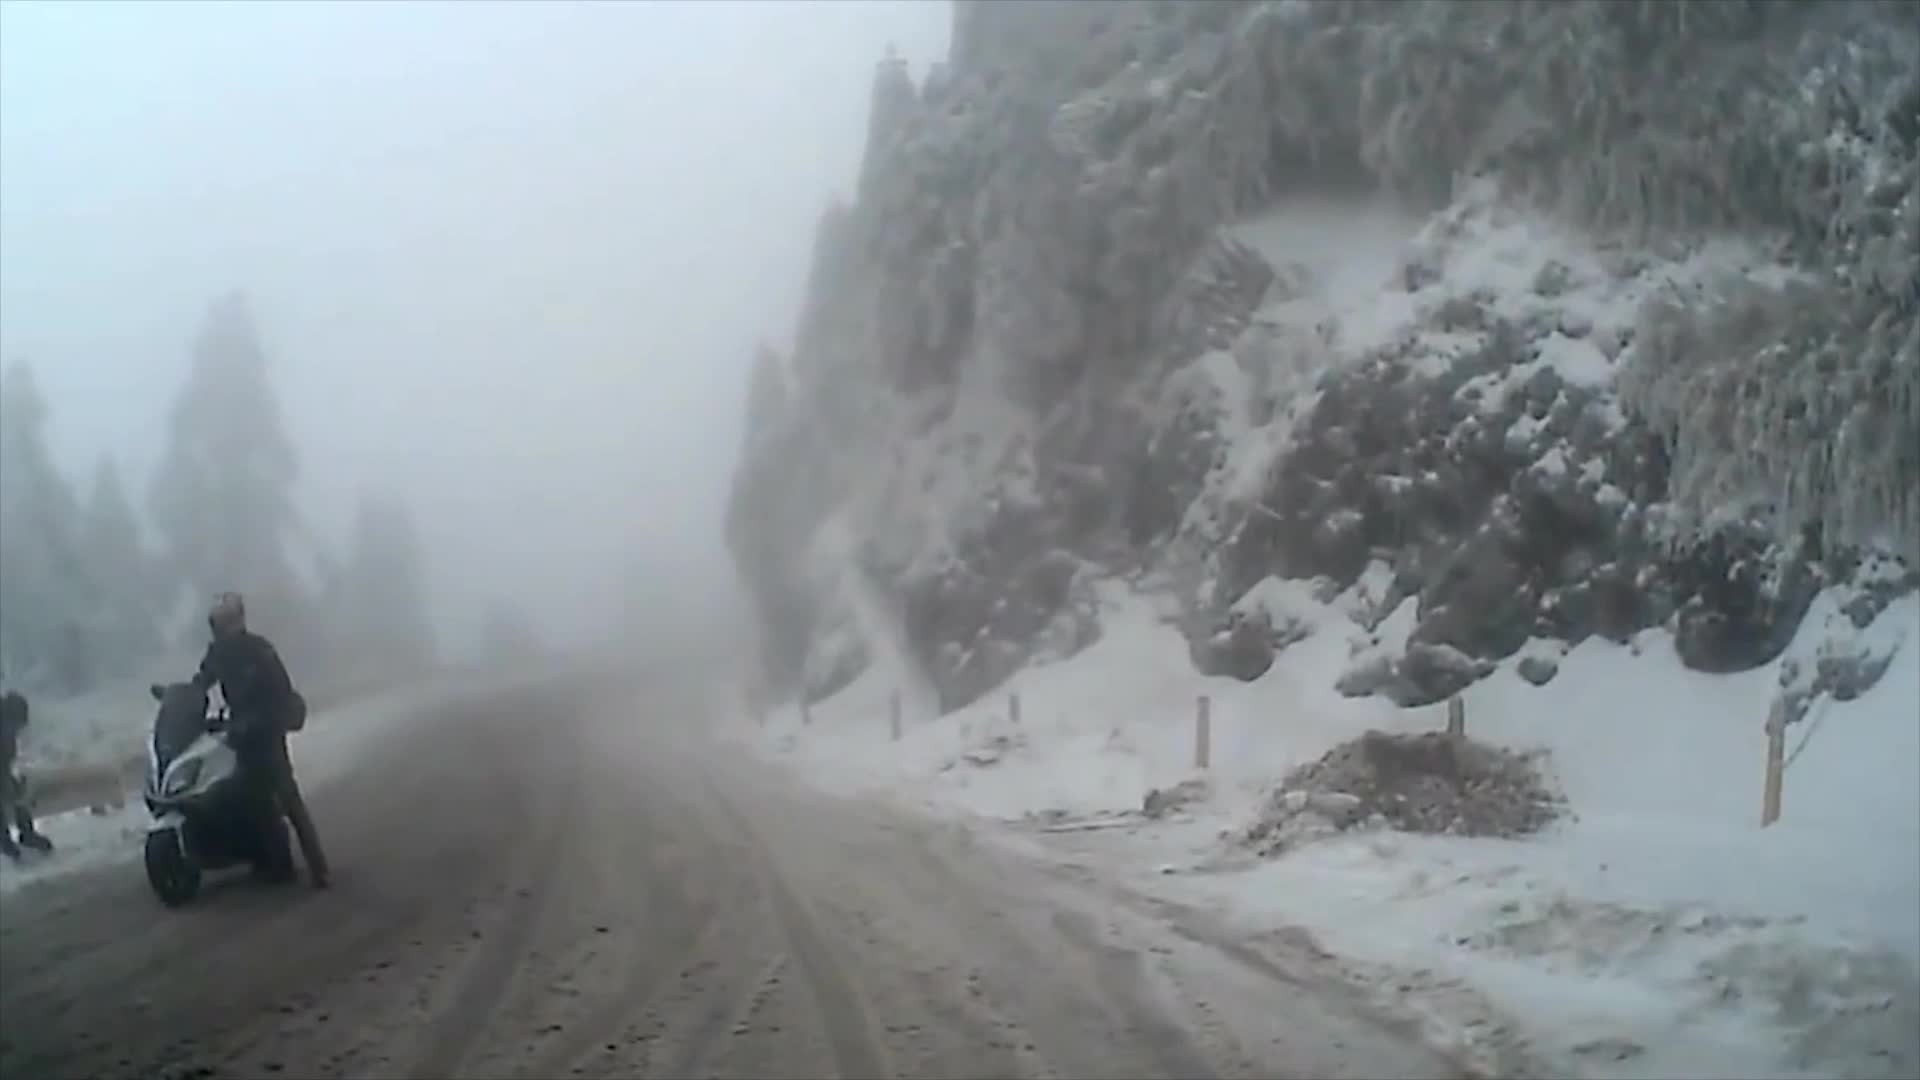pedestrian: (161, 579, 335, 895), (1, 693, 50, 866)
